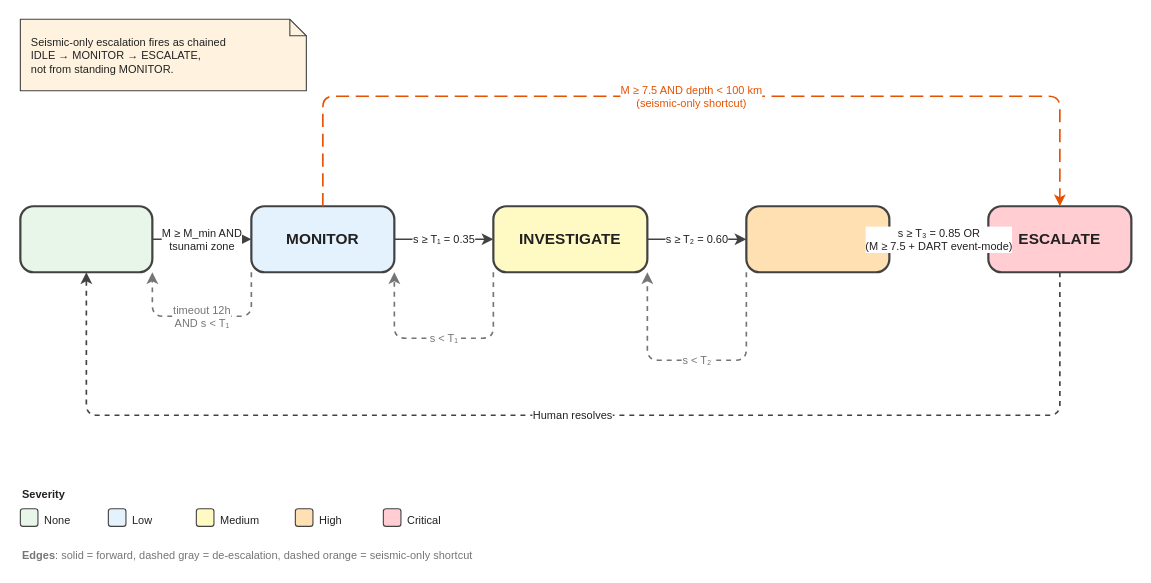
Image size: 1151x583. Some labels were removed from this diagram. Here are the shapes that lost their labels. From the top down, the centre of each, then its label:
At pixel 86 239: "IDLE".
At pixel 817 239: "ASSESS".
